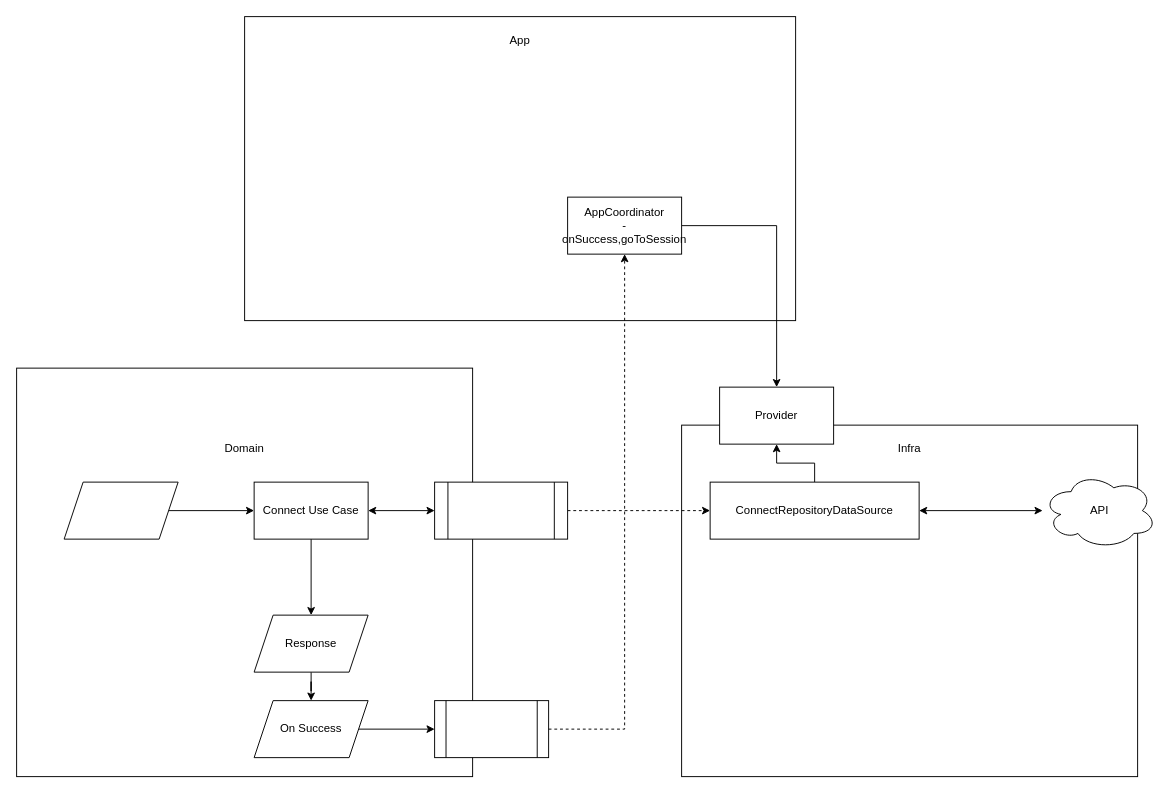
The diagram is 1173 pixels wide and 793 high, and some of its shapes have lost their labels. Each missing label, with the centre of its shape:
ConnectRepository: the point at 501,510
Coordinator - OnSuccess: the point at 491,729
Username Room ID: the point at 120,510
